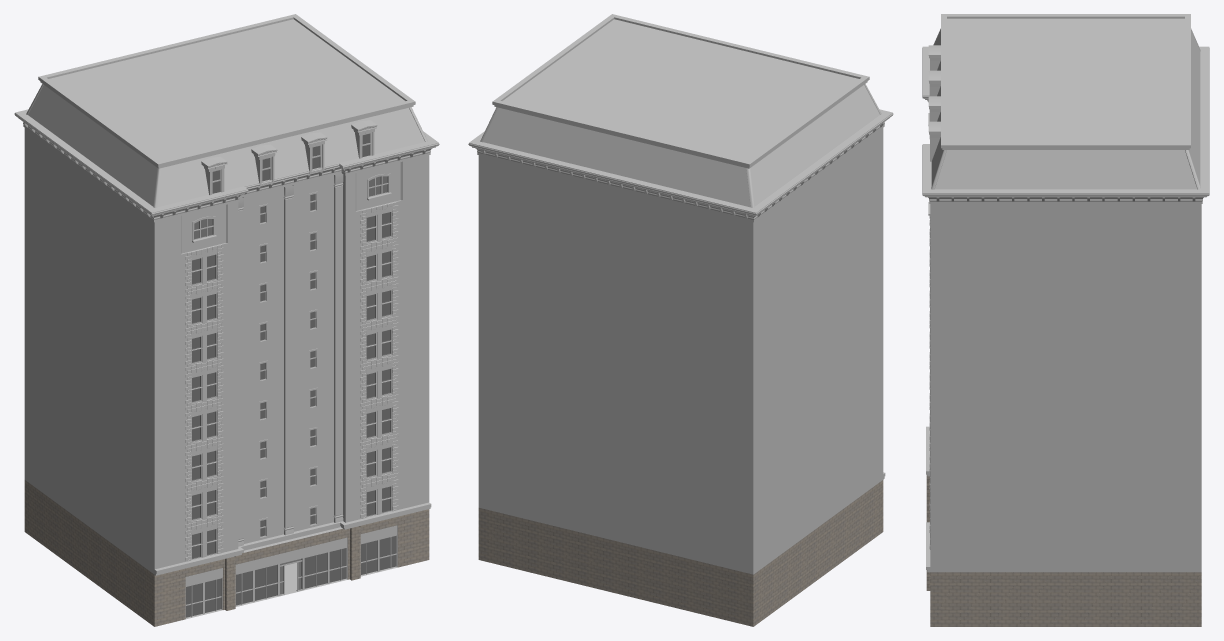
Rendered from Building_Large_3.gltf.
3 renders of one model, left to right at view 1: azimuth 30°, elevation 25°; view 2: azimuth 150°, elevation 25°; view 3: azimuth 270°, elevation 25°, orthographic. The views are drawn at different scales.
Visible parts, largest first — view 1: Building_Large_3; view 2: Building_Large_3; view 3: Building_Large_3.
Boxes of the visible parts, <box> form: Building_Large_3: <box>14,14,439,626</box>; Building_Large_3: <box>468,14,893,626</box>; Building_Large_3: <box>922,14,1209,626</box>.
Size of what is drawn, in the model's own units: 23.06 by 34.95 by 19.06.
